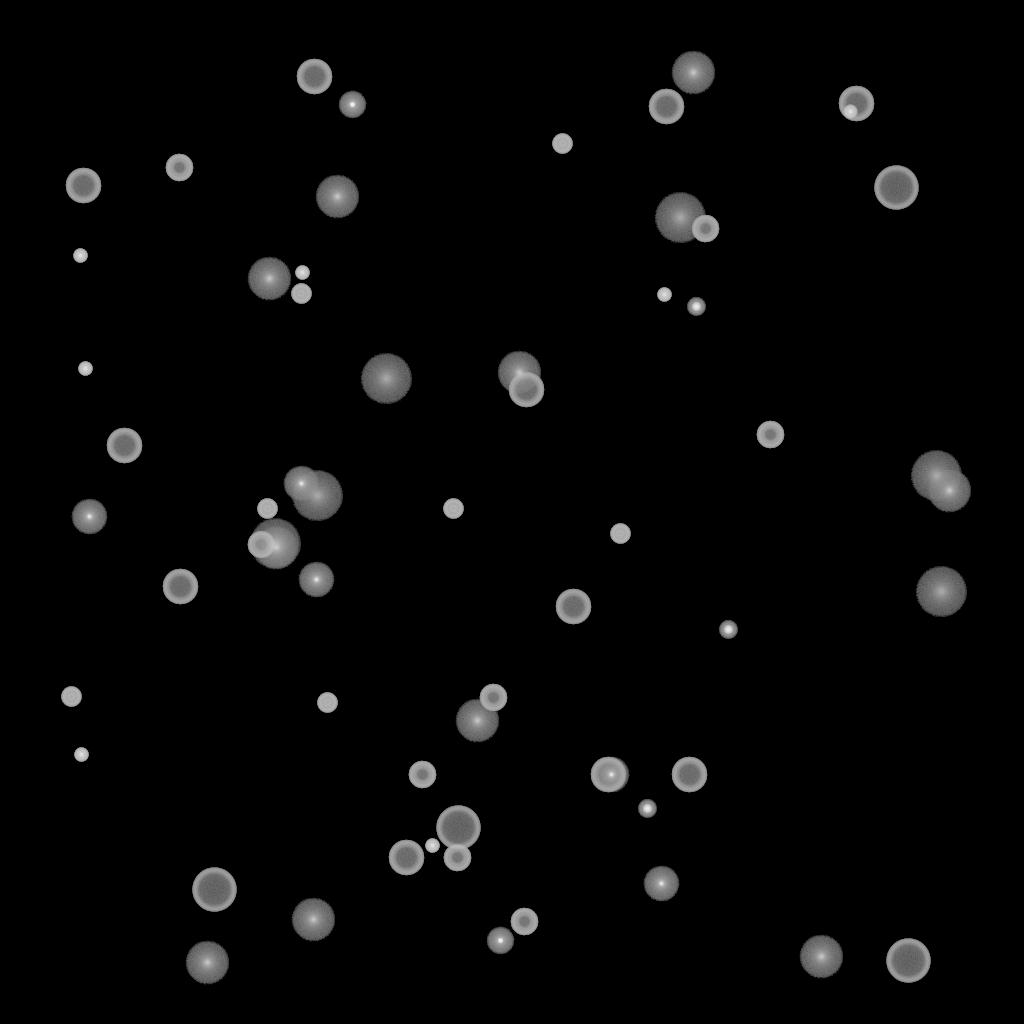depth:-10: (338, 91, 366, 119), (486, 927, 514, 955)
depth:-20: (687, 298, 705, 316), (638, 800, 656, 818), (719, 621, 737, 639)
depth:-30: (78, 362, 92, 376), (843, 105, 857, 119), (425, 839, 439, 853), (74, 748, 88, 762), (295, 266, 309, 280), (657, 288, 671, 302), (73, 249, 87, 263)
depth:-40: (61, 687, 81, 707), (317, 693, 337, 713), (443, 499, 463, 519), (257, 499, 277, 519), (610, 524, 630, 544), (552, 134, 572, 154), (291, 284, 311, 304)
depth:-50: (165, 154, 193, 182), (443, 844, 471, 872), (756, 421, 784, 449), (408, 761, 436, 789), (691, 215, 719, 243), (247, 531, 275, 559), (479, 684, 507, 712), (510, 908, 538, 936)
depth:-60: (296, 59, 332, 95), (162, 569, 198, 605), (508, 372, 544, 408), (590, 757, 626, 793), (65, 168, 101, 204), (838, 86, 874, 122), (555, 589, 591, 625), (106, 428, 142, 464), (388, 840, 424, 876), (671, 757, 707, 793), (648, 89, 684, 125)
depth:-70: (886, 939, 930, 983), (436, 806, 480, 850), (874, 166, 918, 210), (192, 868, 236, 912)
depth:0: (298, 562, 334, 598), (71, 499, 107, 535), (643, 866, 679, 902), (593, 757, 629, 793), (283, 466, 319, 502)
depth:10: (455, 699, 499, 743), (671, 51, 715, 95), (254, 526, 298, 570), (291, 898, 335, 942), (185, 941, 229, 985), (247, 257, 291, 301), (497, 351, 541, 395), (799, 935, 843, 979), (315, 175, 359, 219), (927, 469, 971, 513)
depth:20: (910, 451, 962, 501), (249, 519, 301, 569), (915, 567, 967, 617), (654, 193, 706, 243), (291, 471, 343, 521), (360, 354, 412, 404)
